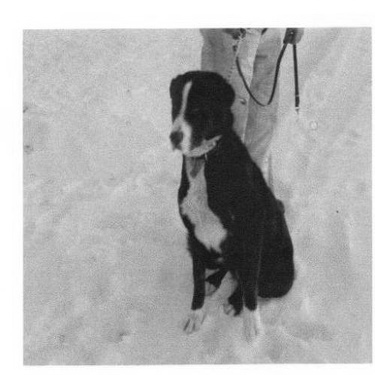dog: (140, 53, 302, 349)
